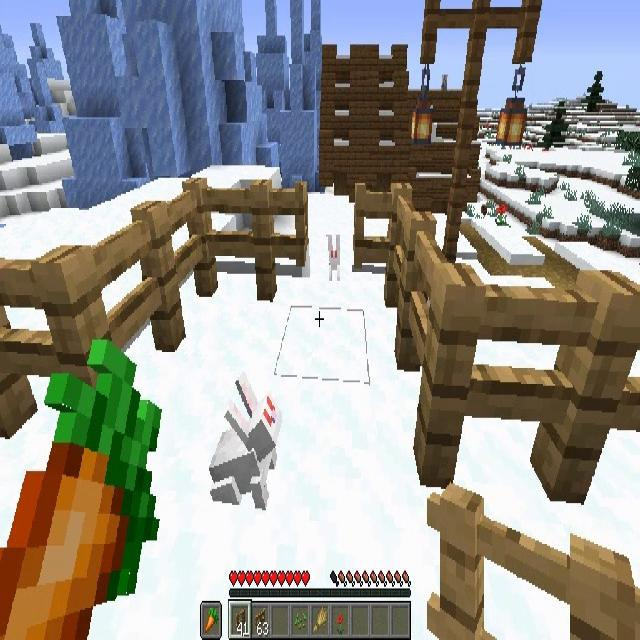rabbit: (207, 364, 280, 510), (327, 235, 340, 283)
sheep: (451, 418, 635, 640)
